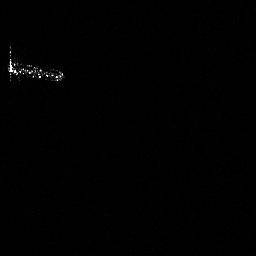ship: (5, 40, 67, 85)
